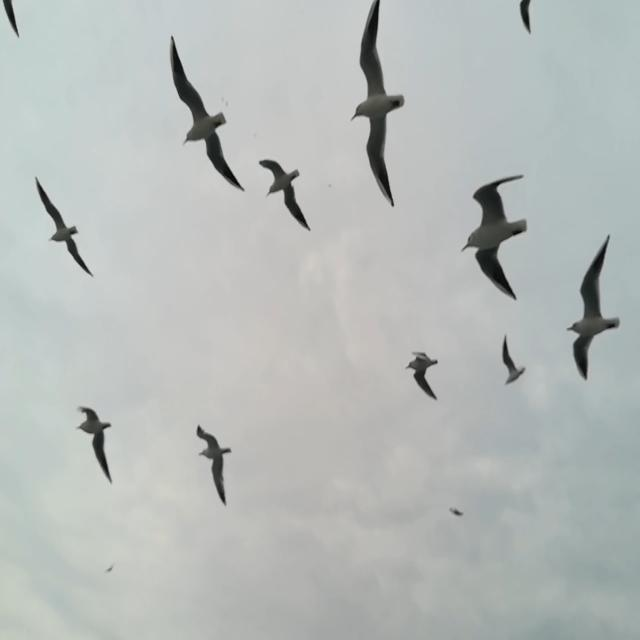bird: (170, 34, 246, 194), (350, 0, 406, 209), (461, 175, 527, 302), (566, 234, 620, 382), (34, 177, 94, 277), (258, 159, 312, 232), (196, 424, 233, 506), (75, 404, 112, 484), (405, 350, 440, 401), (500, 333, 526, 386), (2, 0, 20, 39), (520, 0, 532, 36), (449, 505, 465, 518), (103, 562, 116, 573)
